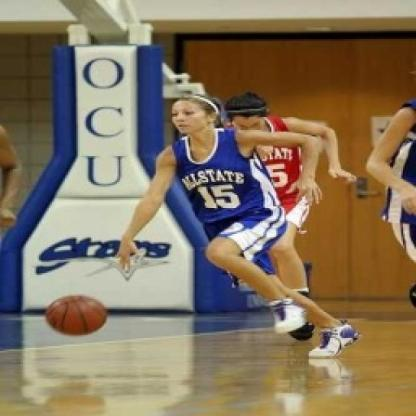basketball: (43, 292, 113, 338)
